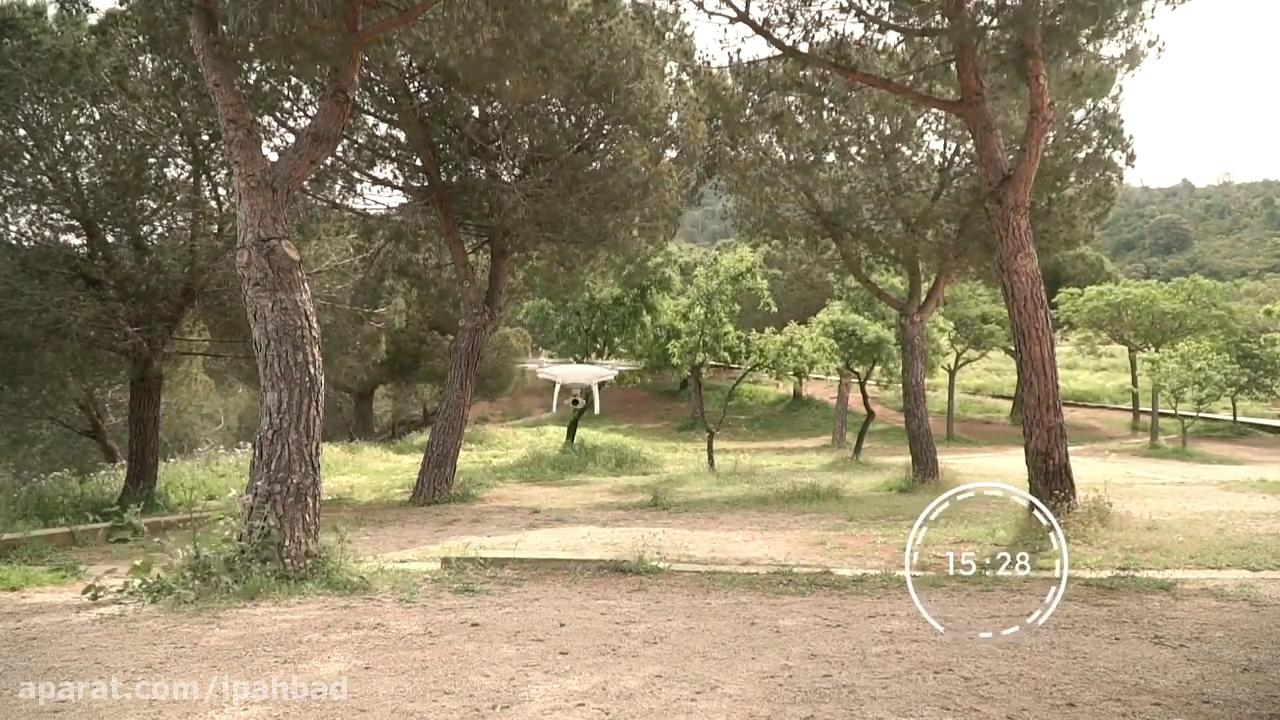drone: (500, 349, 650, 417)
